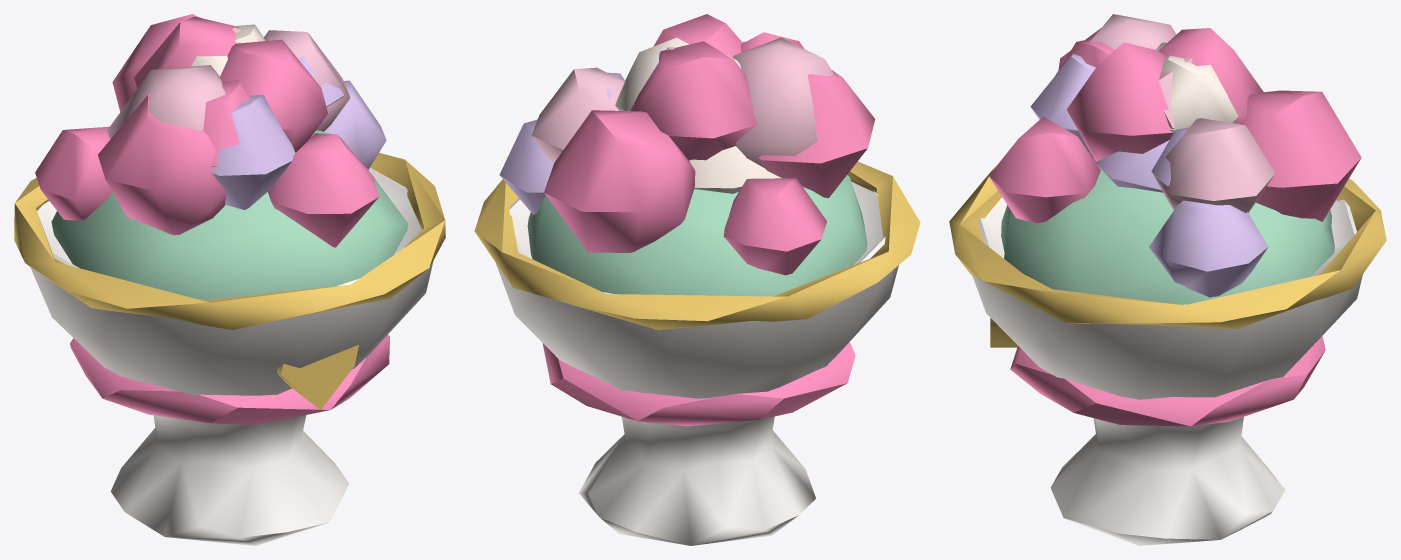
Rendered from planter_round.glb.
3 renders of one model, left to right at view 1: azimuth 30°, elevation 25°; view 2: azimuth 150°, elevation 25°; view 3: azimuth 270°, elevation 25°, orthographic. The views are drawn at different scales.
Parts seen in each view (by area): view 1: planter_round; view 2: planter_round; view 3: planter_round.
Boxes of the visible parts, <box> form: planter_round: <box>14,14,445,545</box>; planter_round: <box>474,14,920,545</box>; planter_round: <box>949,14,1386,545</box>.
Size of the model in its own units: 1.25 by 1.46 by 1.25.
